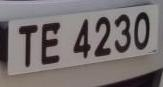0: (131, 6, 154, 56)
2: (93, 14, 113, 60)
3: (113, 11, 134, 58)
4: (70, 14, 94, 64)
E: (38, 19, 64, 70)
T: (14, 19, 41, 74)
